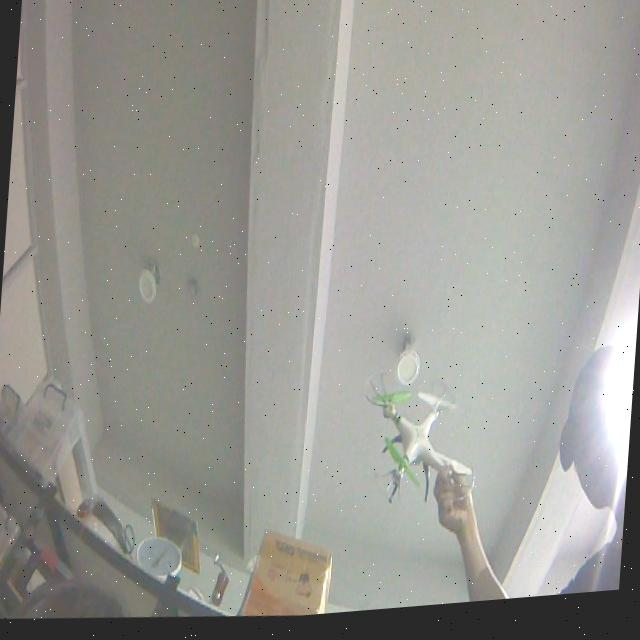drone: (353, 364, 488, 520)
